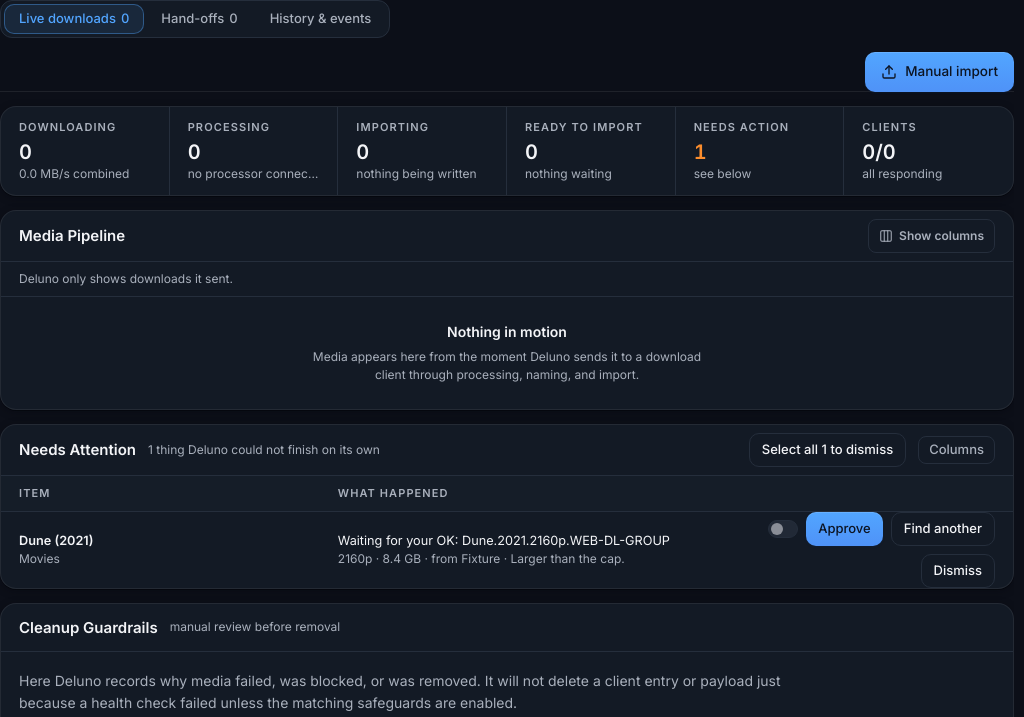
Test: In progress: the attention drawer of a row with no drawer of its own › a held release lists its release, quality, size, source and why it is held
Click the text "Waiting for your OK: Dune.2021.2160p.WEB-DL-GROUP". click: (510, 541)
box: x1=338 y1=533 x2=683 y2=549
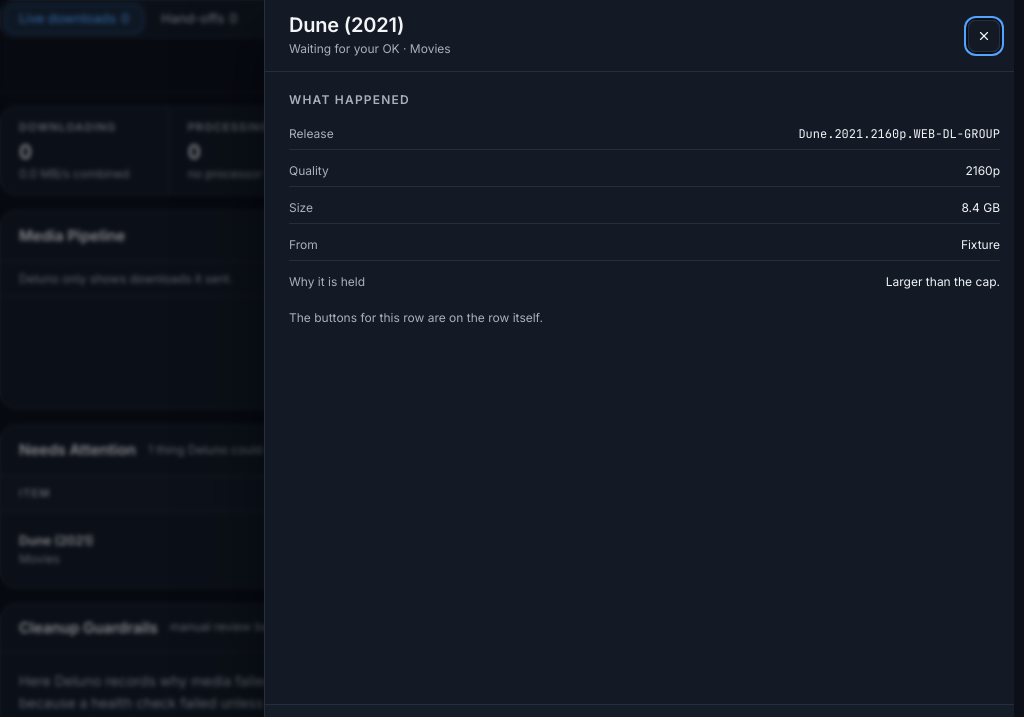
Expected: the text "Release" is shown, x1=289 y1=125 x2=334 y2=143
Expected: the text "Quality" is shown, x1=289 y1=162 x2=329 y2=180
Expected: the text "Size" is shown, x1=289 y1=199 x2=313 y2=217
